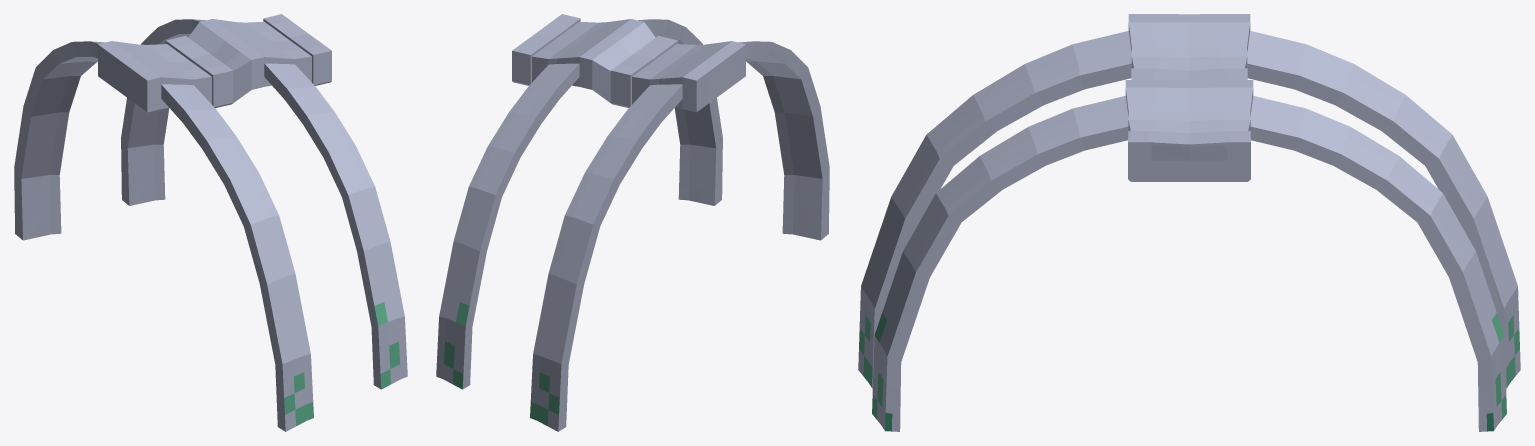
File: iga1.fbx
3 views of the same model, side by side, from view 1: azimuth 30°, elevation 25°; view 2: azimuth 150°, elevation 25°; view 3: azimuth 270°, elevation 25° (orthographic). The views are drawn at different scales.
Visible parts, largest first — view 1: iga2; view 2: iga2; view 3: iga2.
Part boxes in pixels (x1,y1,x2,y2): iga2: (14,14,407,431); iga2: (436,14,829,431); iga2: (858,14,1520,431).
Bounding box in the file's own units: 243 × 348 × 614.
